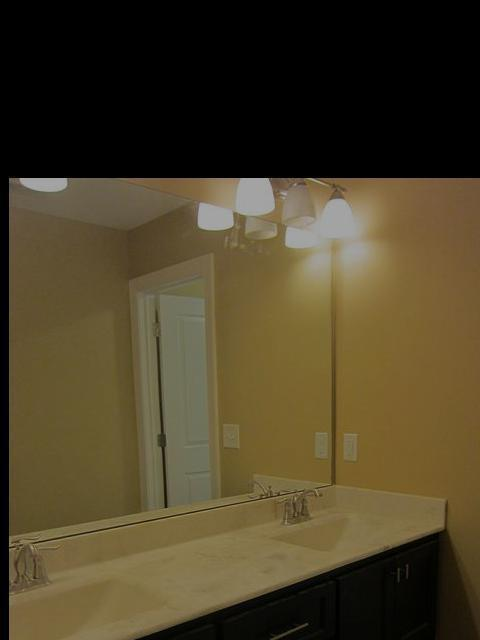Lavamanos: (9, 523, 163, 640), (266, 484, 401, 558)
